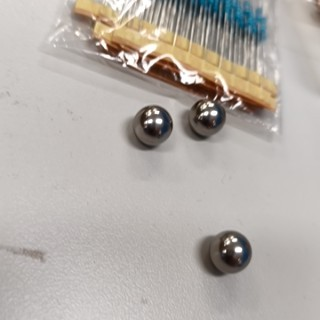ironball: (199, 219, 259, 281), (130, 97, 175, 158), (188, 95, 226, 147)
